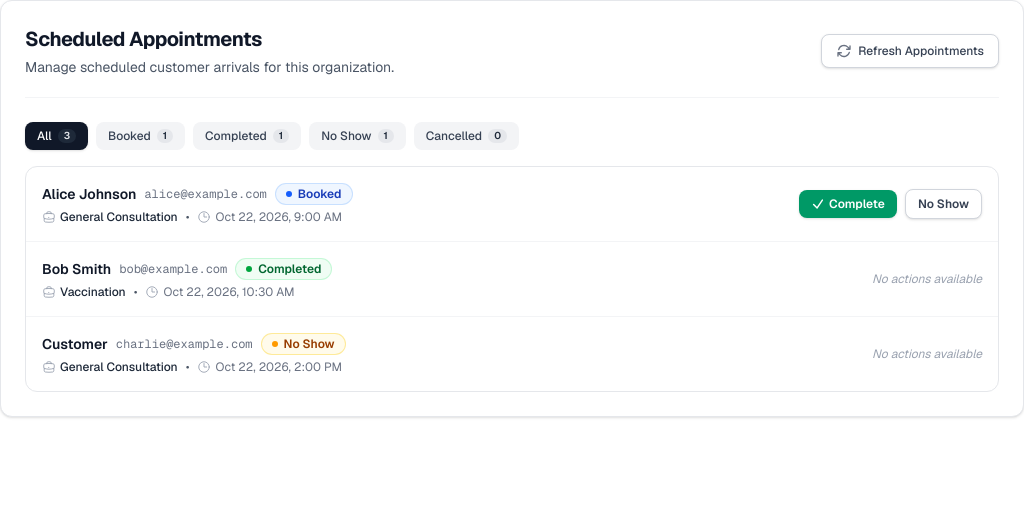
it: StaffAppointmentsManagement › handles 409 conflict during status update by notifying user and refetching
Expected: the text "Alice Johnson" is shown, [42,184,136,204]
Click the button with aria-label "Mark appointment for Alice Johnson as completed": (848, 204) [799,190,897,218]
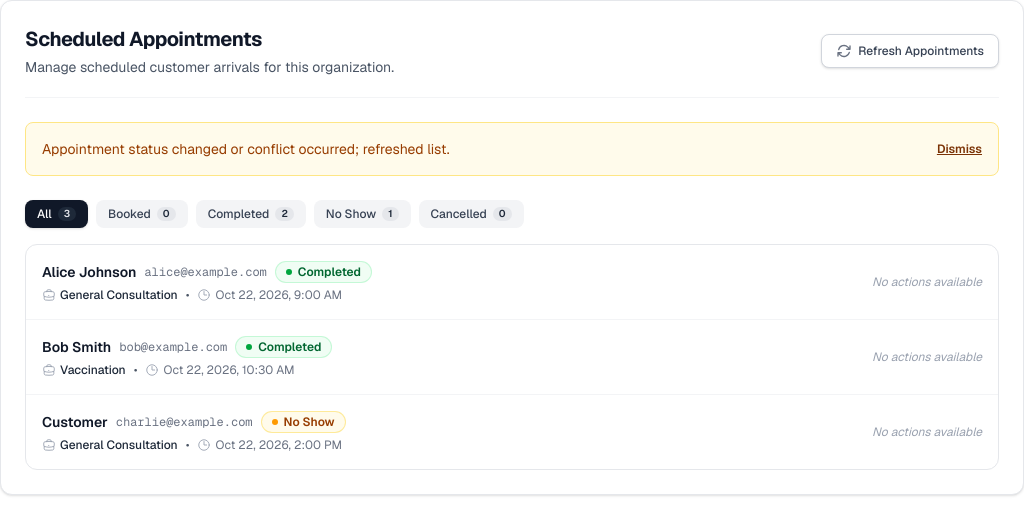
Expected: the text "Appointment status changed or conflict occurred; refreshed list." is shown, [42,139,450,159]
